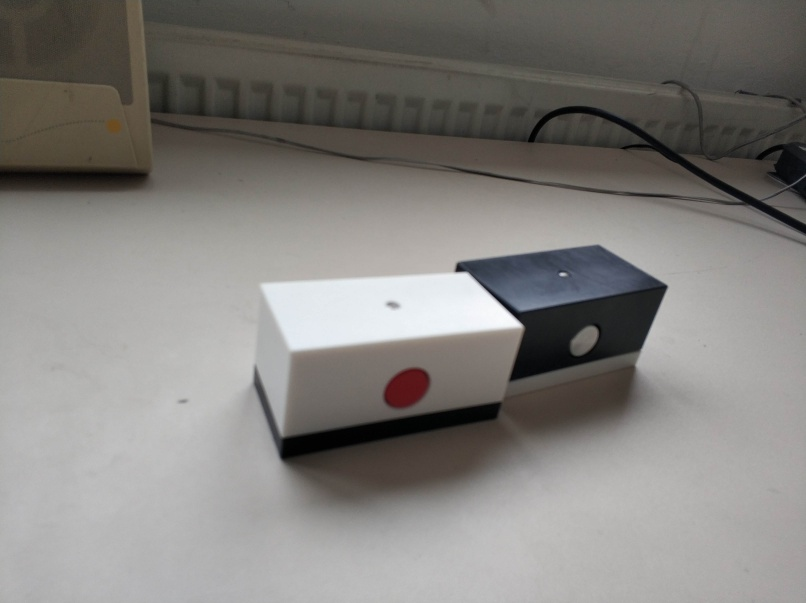black+white+red: (250, 268, 528, 464)
white+black+silver: (457, 243, 670, 393)
